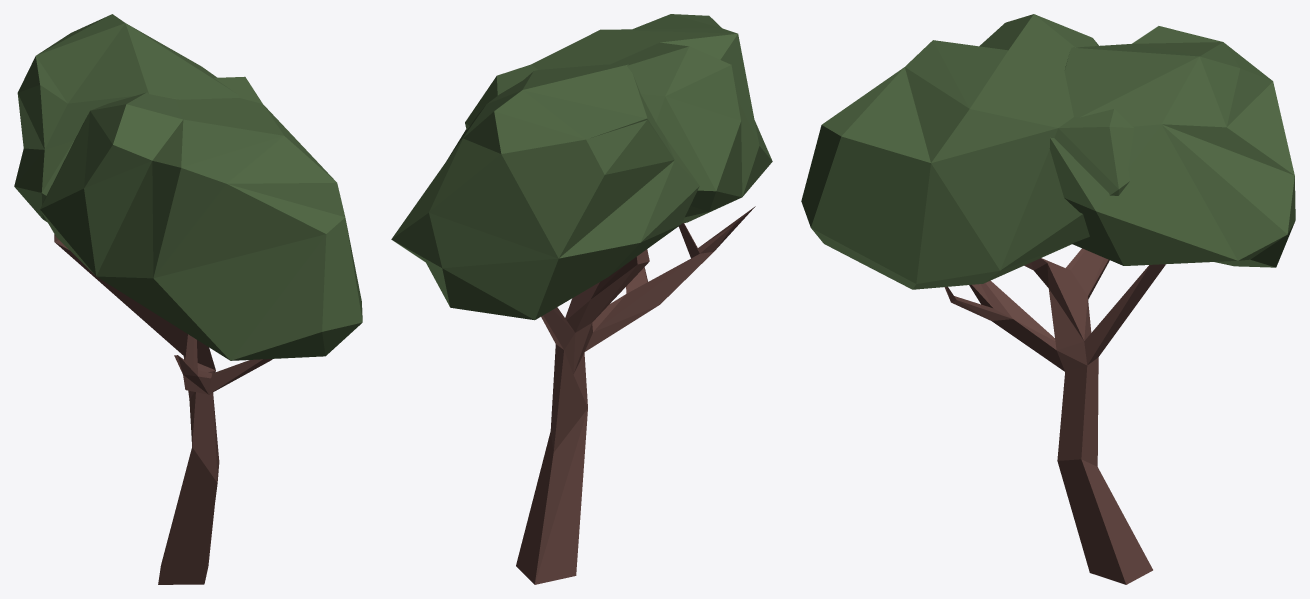
Rendered from tree-common-5.gltf.
3 renders of one model, left to right at view 1: azimuth 30°, elevation 25°; view 2: azimuth 150°, elevation 25°; view 3: azimuth 270°, elevation 25°, orthographic. The views are drawn at different scales.
Parts seen in each view (by area): view 1: CommonTree_5_Cube.001; view 2: CommonTree_5_Cube.001; view 3: CommonTree_5_Cube.001.
Part boxes in pixels (x1,y1,x2,y2): CommonTree_5_Cube.001: [14, 14, 362, 584]; CommonTree_5_Cube.001: [391, 14, 772, 584]; CommonTree_5_Cube.001: [801, 14, 1295, 584].
Bounding box in the file's own units: 0.0126 × 0.0253 × 0.0222.
